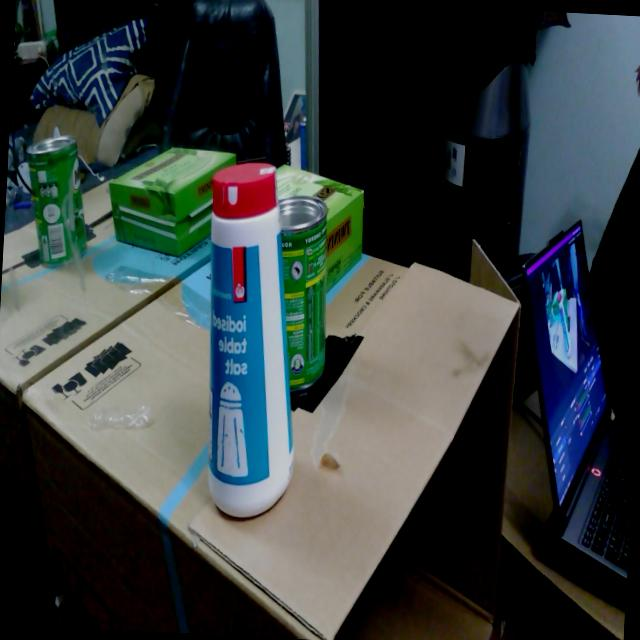nestle_milo_tin: (279, 195, 327, 392)
twinings_greentea_box: (277, 164, 364, 293)
woolworths_salt_bottle: (208, 163, 293, 517)
